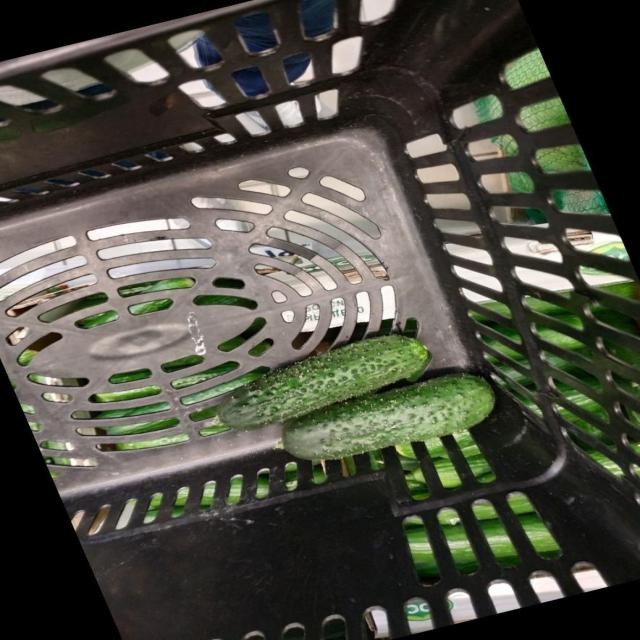cucumber: (141, 212, 423, 640), (182, 167, 432, 548)
